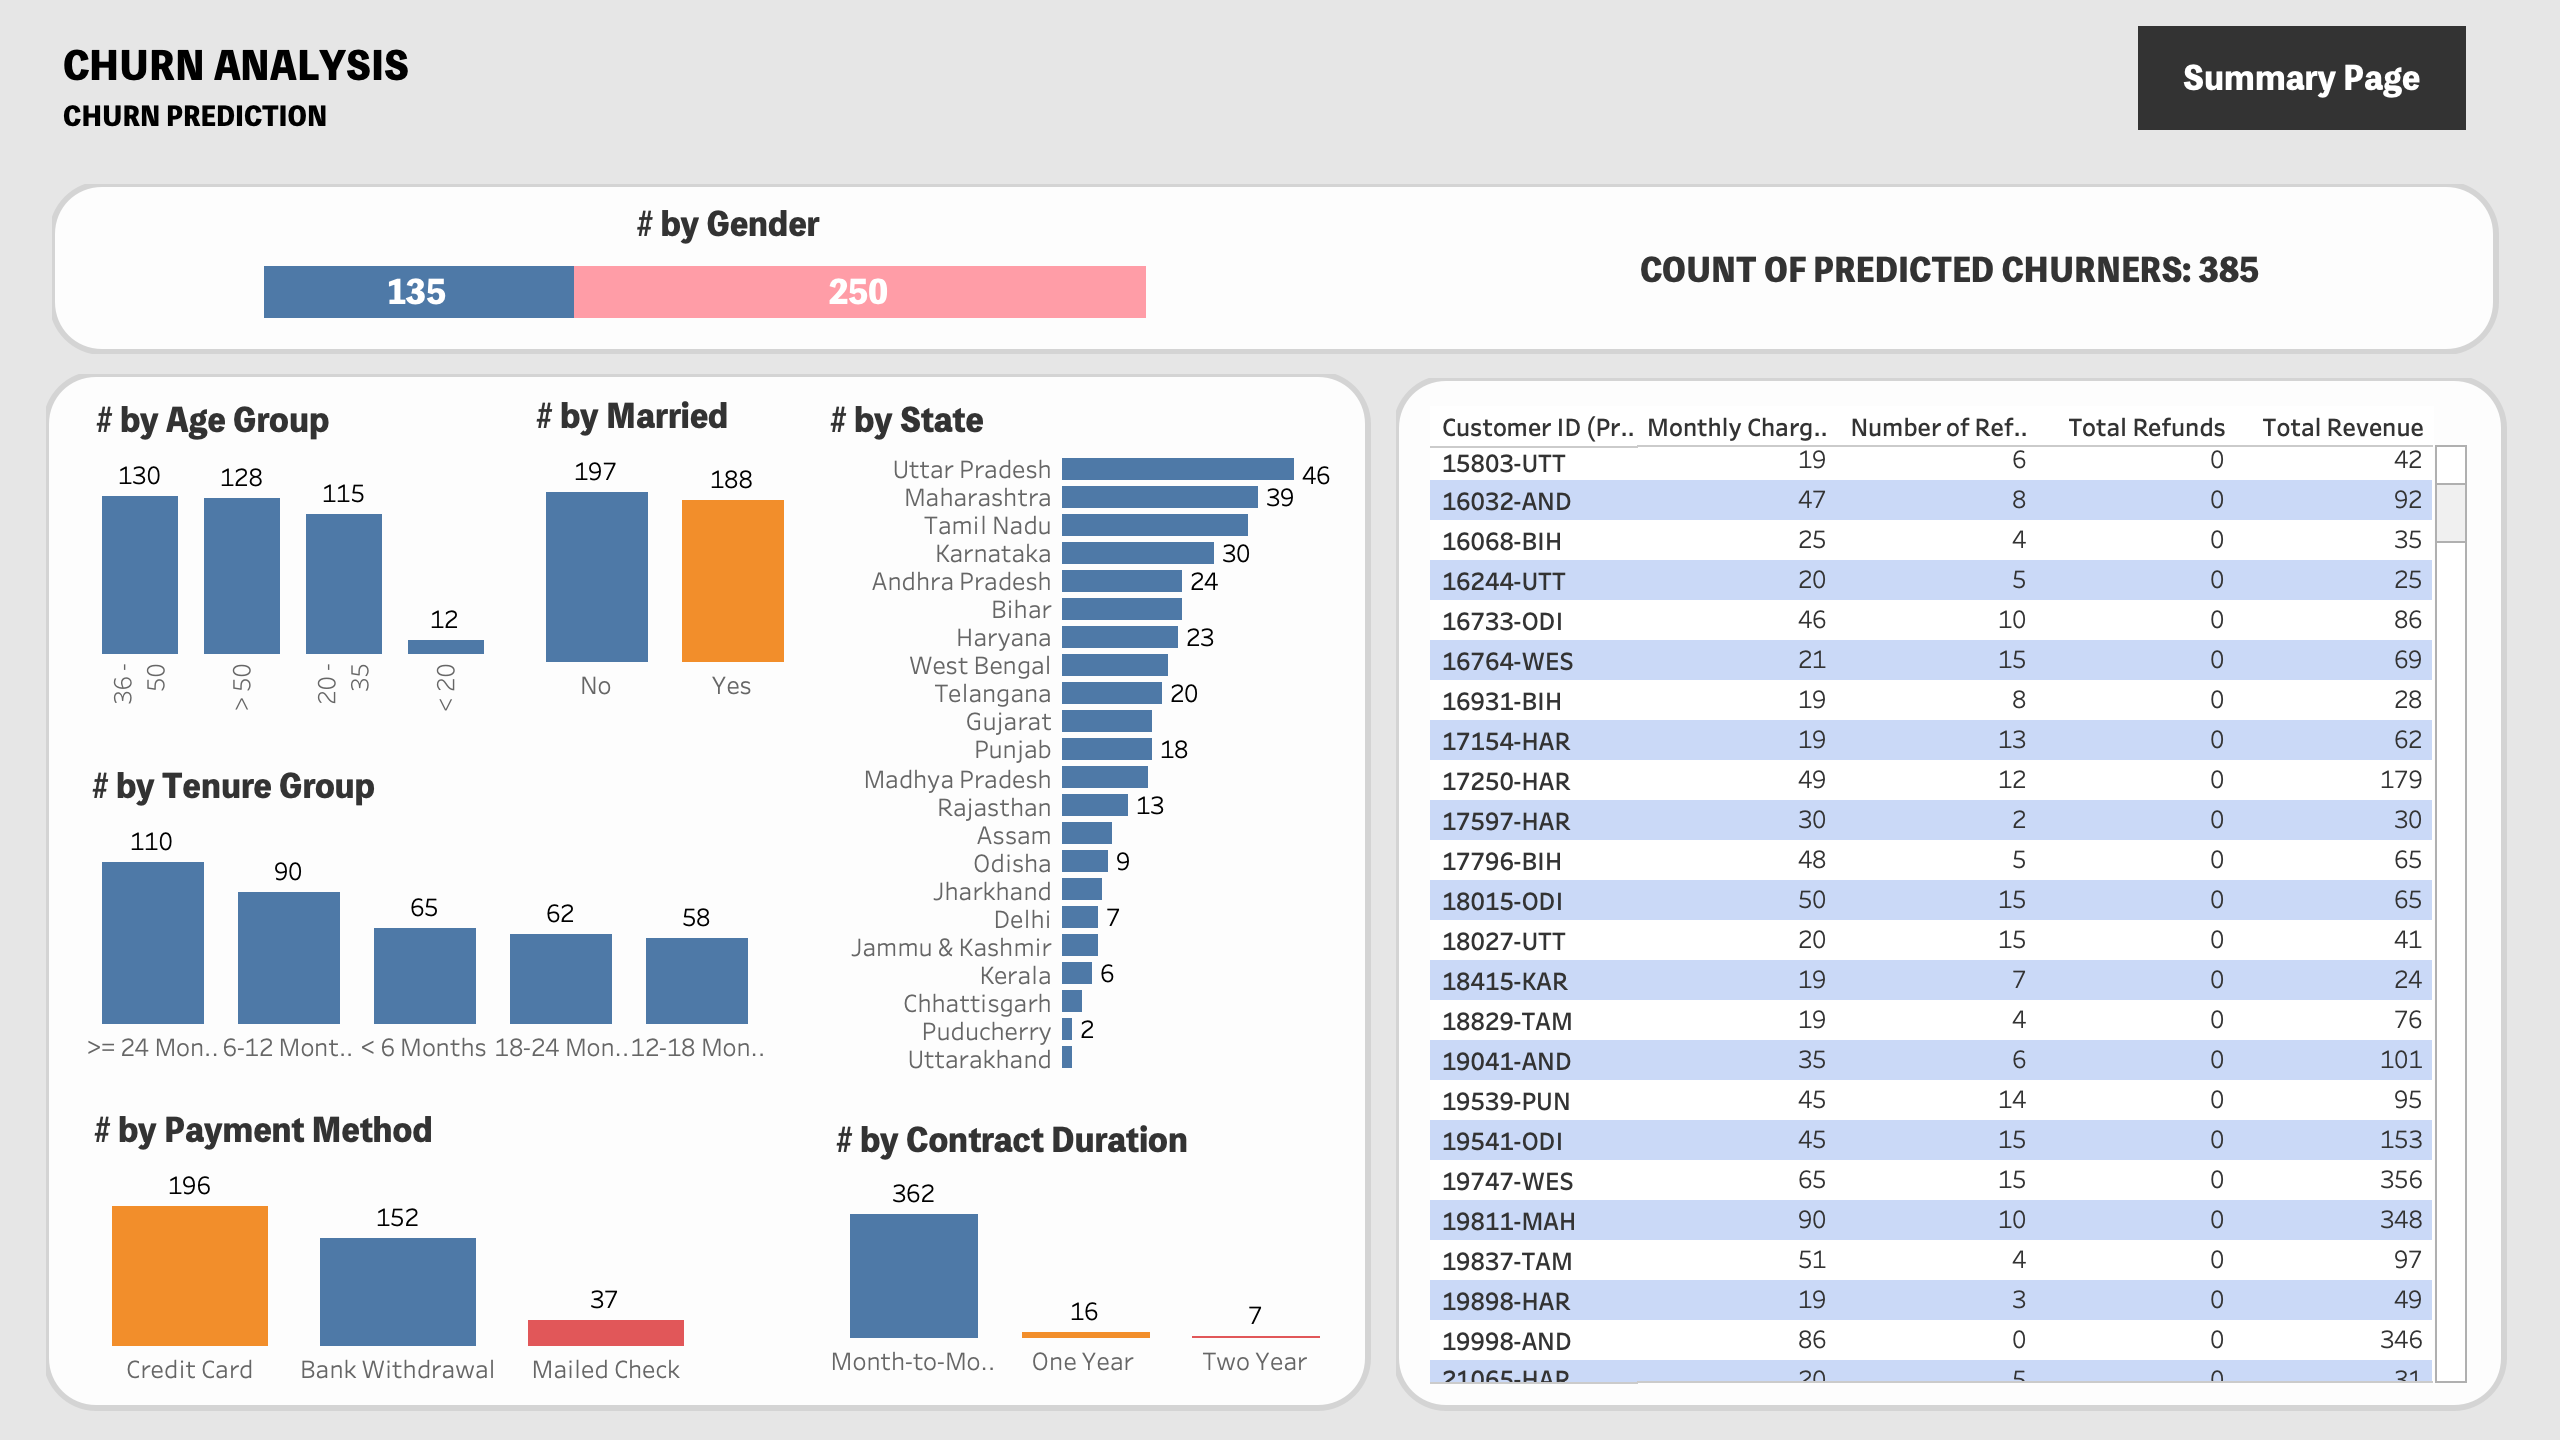

The page's visual inventory and layout, read from the dashboard file:
{"tool":"tableau","page":{"name":"Prediction","canvas":[1280,720],"ordinal":0},"visuals":[{"type":"text","box":[29,9,614,70]},{"type":"dashboard-object","box":[1069,13,164,52]},{"type":"worksheet","title":"Rounded Box (4)","mark":"Automatic","box":[26,92,1227,85]},{"type":"worksheet","title":"Churn # by Gender","mark":"Automatic","cols":["Calculation_1968776756535050245"],"box":[132,98,464,65]},{"type":"worksheet","title":"Count of Churn","mark":"Automatic","rows":["Calculation_1968776756535197702"],"box":[750,106,450,58]},{"type":"worksheet","title":"Rounded Box","mark":"Automatic","box":[23,187,681,521]},{"type":"worksheet","title":"Rounded Box (2)","mark":"Automatic","box":[698,189,556,520]},{"type":"worksheet","title":"Churn # by Married","mark":"Automatic","rows":["Customer_ID (Predictions)"],"cols":["Married"],"box":[264,194,136,158]},{"type":"worksheet","title":"Churn # by Age Group","mark":"Automatic","rows":["Customer_ID (Predictions)"],"cols":["Calculation_6543800646793588743"],"box":[44,196,204,165]},{"type":"worksheet","title":"Churn # by State","mark":"Automatic","rows":["State (Predictions)"],"cols":["Customer_ID (Predictions)"],"box":[411,196,266,340]},{"type":"worksheet","title":"Churn Prediction Overview","mark":"Automatic","rows":["Customer_ID (Predictions)"],"box":[715,203,519,489]},{"type":"worksheet","title":"Churn # by Tenure Group","mark":"Automatic","rows":["Customer_ID (Predictions)"],"cols":["Tenure in Months (copy)_6543800649255772169"],"box":[42,379,340,154]},{"type":"worksheet","title":"Churn # by Payment","mark":"Automatic","rows":["Customer_ID (Predictions)"],"cols":["Payment_Method (Predictions)"],"box":[43,551,312,143]},{"type":"worksheet","title":"Churn # by Contract Duration","mark":"Automatic","rows":["Customer_ID (Predictions)"],"cols":["Contract (Predictions)"],"box":[414,556,257,134]}]}

Visuals, with their boxes in screenshot pixels (x1, y1, x2, y2), scaled from the page's 1280x720 canvas onto the 2560x1440 screenshot:
text: x1=58 y1=18 x2=1286 y2=158
dashboard-object: x1=2138 y1=26 x2=2466 y2=130
"Rounded Box (4)" worksheet: x1=52 y1=184 x2=2506 y2=354
"Churn # by Gender" worksheet: x1=264 y1=196 x2=1192 y2=326
"Count of Churn" worksheet: x1=1500 y1=212 x2=2400 y2=328
"Rounded Box" worksheet: x1=46 y1=374 x2=1408 y2=1416
"Rounded Box (2)" worksheet: x1=1396 y1=378 x2=2508 y2=1418
"Churn # by Married" worksheet: x1=528 y1=388 x2=800 y2=704
"Churn # by Age Group" worksheet: x1=88 y1=392 x2=496 y2=722
"Churn # by State" worksheet: x1=822 y1=392 x2=1354 y2=1072
"Churn Prediction Overview" worksheet: x1=1430 y1=406 x2=2468 y2=1384
"Churn # by Tenure Group" worksheet: x1=84 y1=758 x2=764 y2=1066
"Churn # by Payment" worksheet: x1=86 y1=1102 x2=710 y2=1388
"Churn # by Contract Duration" worksheet: x1=828 y1=1112 x2=1342 y2=1380
